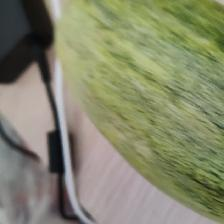gua: (77, 9, 218, 128)
